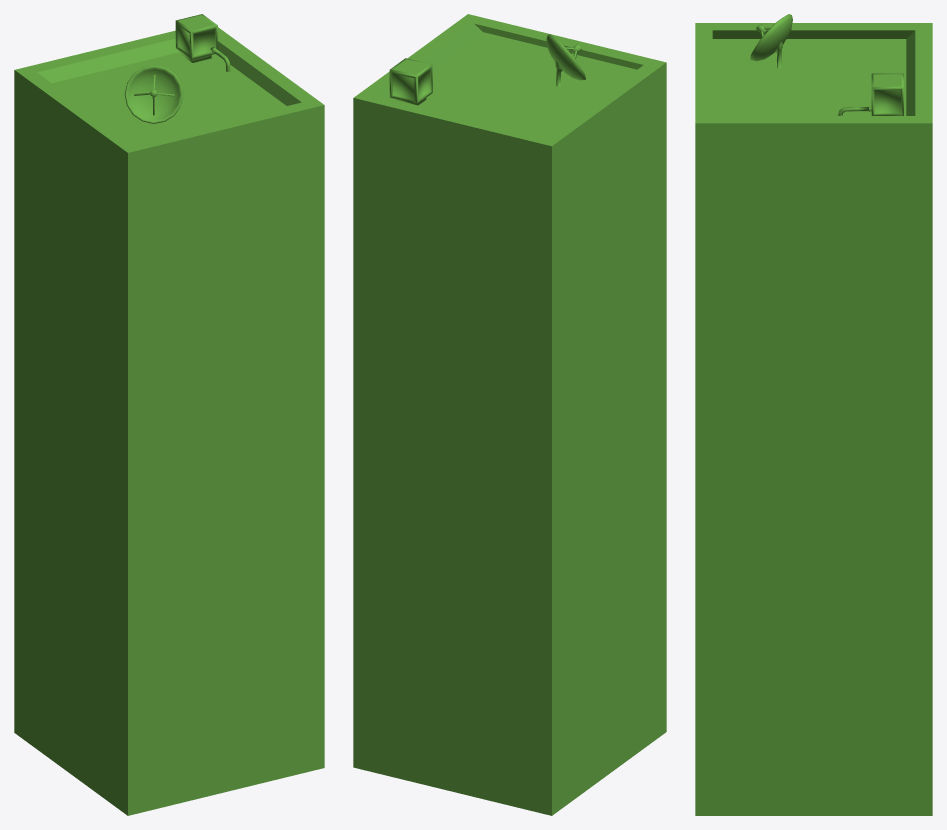
Rendered from Building5_green.fbx.
The picture shows the model from 3 angles, left to right: view 1: azimuth 30°, elevation 25°; view 2: azimuth 150°, elevation 25°; view 3: azimuth 270°, elevation 25°; orthographic projection. The views are drawn at different scales.
Parts seen in each view (by area): view 1: Building 5; view 2: Building 5; view 3: Building 5.
Part boxes in pixels (x1,y1,x2,y2): Building 5: (14,14,324,815); Building 5: (353,14,666,815); Building 5: (695,14,932,815).
Size of the model in its own units: 1305 by 4458 by 1305.
1 material, 1 textured.
